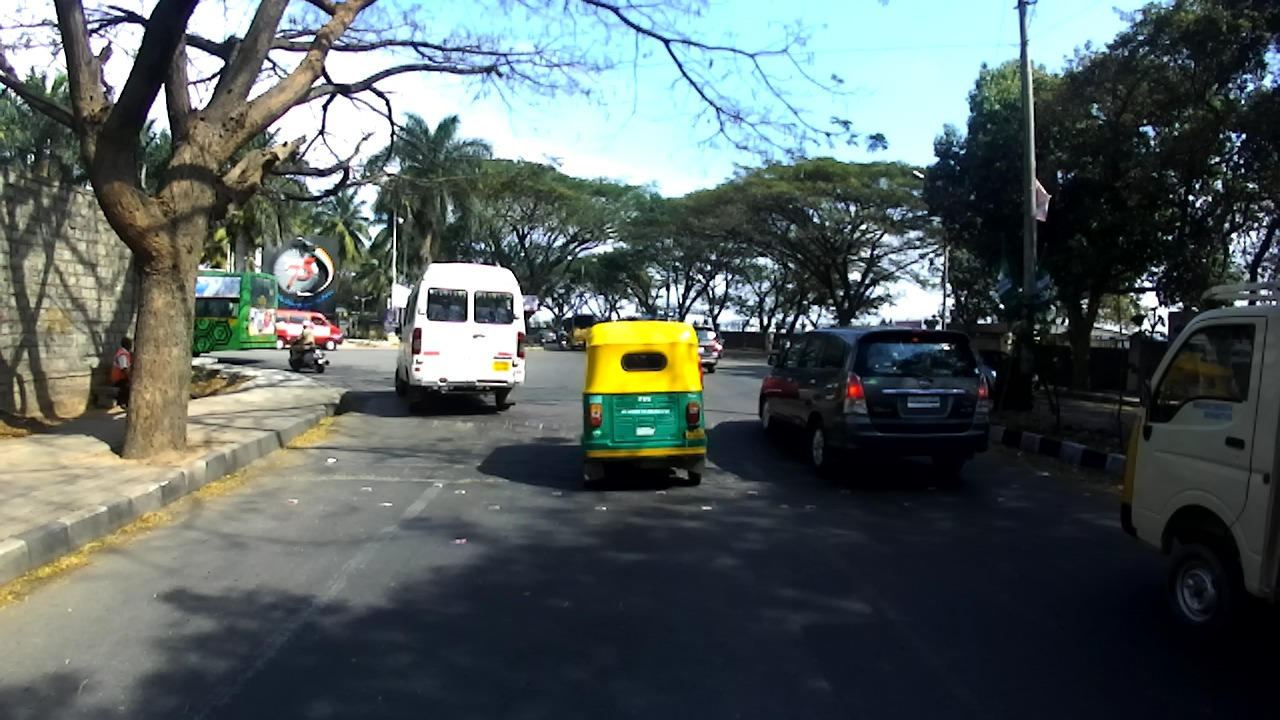autorickshaw: (582, 320, 706, 487)
bus: (393, 263, 525, 411), (194, 268, 278, 360), (274, 310, 345, 352)
car: (757, 327, 991, 475), (975, 346, 1040, 405), (695, 326, 722, 374), (537, 325, 555, 343)
motorcycle: (287, 338, 328, 373), (558, 333, 569, 351), (537, 337, 545, 347)
person: (109, 336, 137, 409)
rider: (289, 319, 313, 369), (554, 325, 568, 343), (537, 332, 546, 341)
truck: (1119, 281, 1280, 630), (570, 314, 594, 350)
vehicle fallback: (562, 317, 572, 337)
